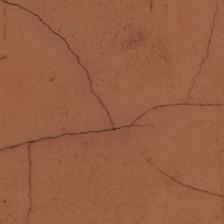Crack: (73, 78, 151, 143), (73, 0, 108, 100), (80, 73, 144, 126), (67, 0, 94, 99), (67, 1, 88, 113), (142, 65, 164, 150)
